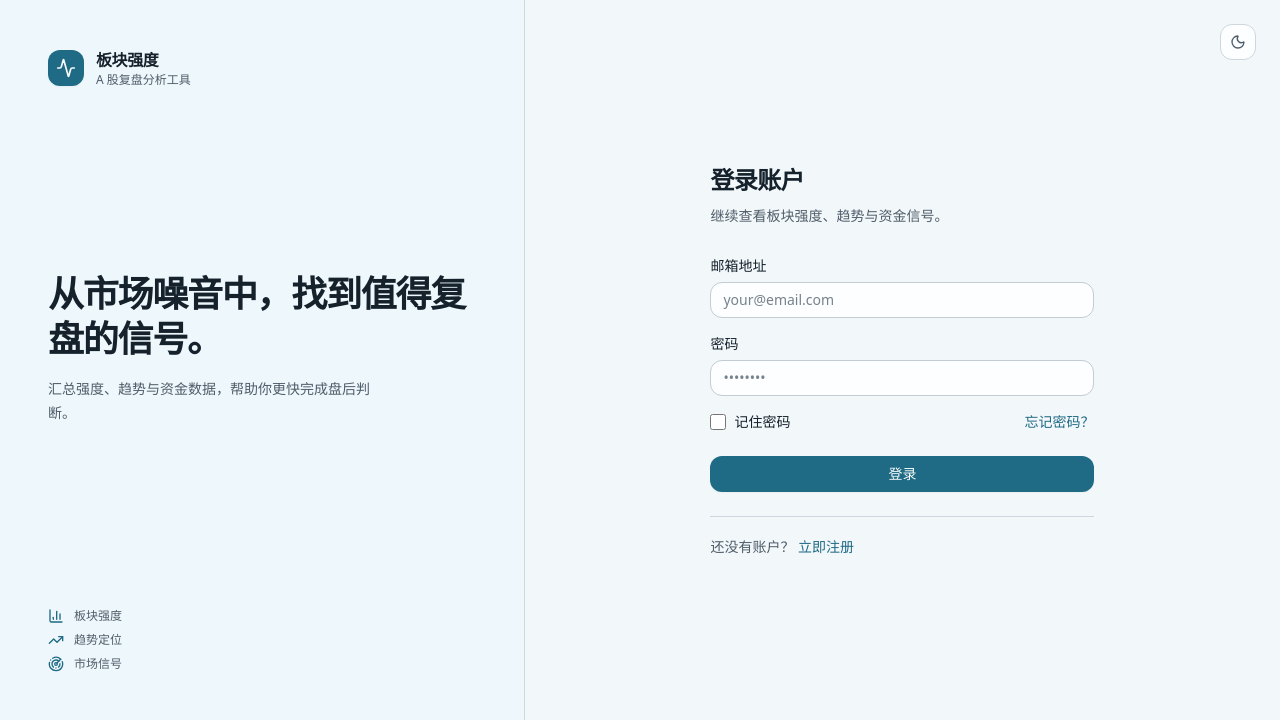
it: LoginPage › 应该验证必填字段
不填写任何字段直接提交
Click the button "登录".
click(902, 474)  # box [710, 456, 1094, 492]
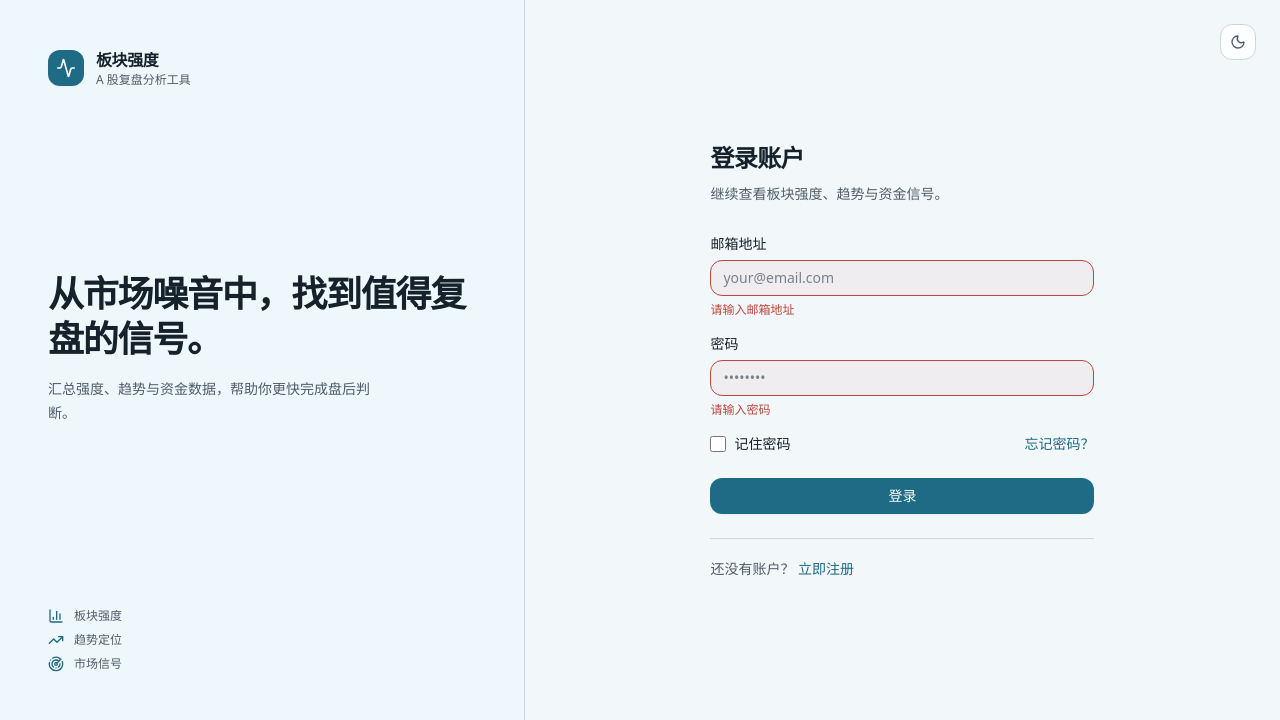
Check: the text "请输入邮箱地址" is shown, box [710, 300, 794, 318]
Check: the text "请输入密码" is shown, box [710, 400, 770, 418]
